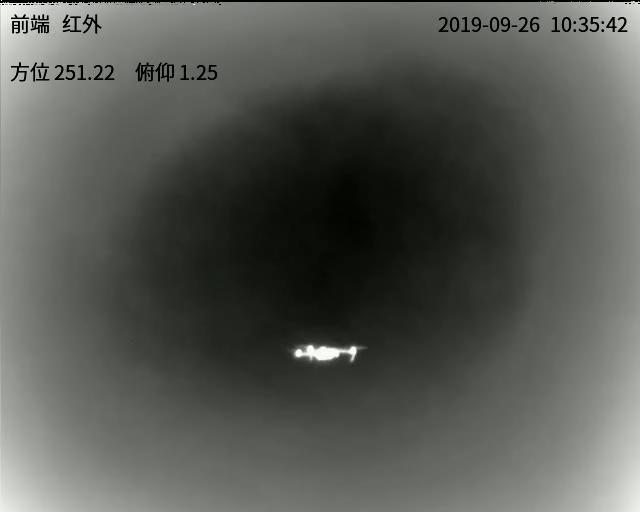uav: (288, 337, 362, 364)
